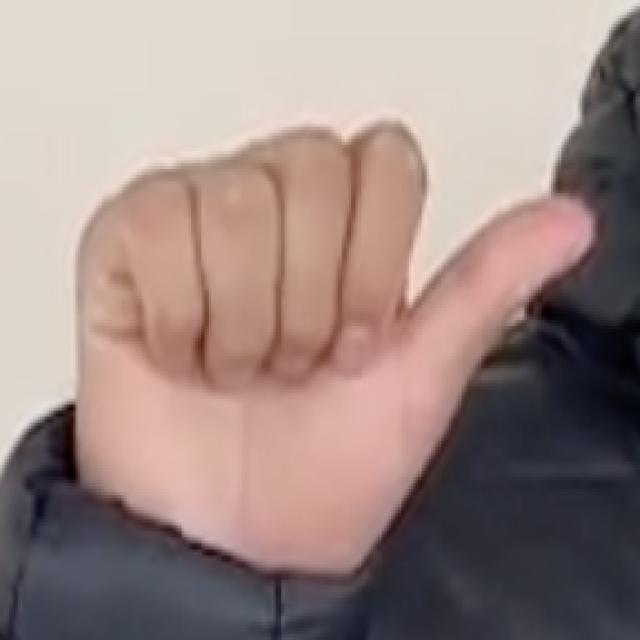A: (63, 93, 599, 582)
